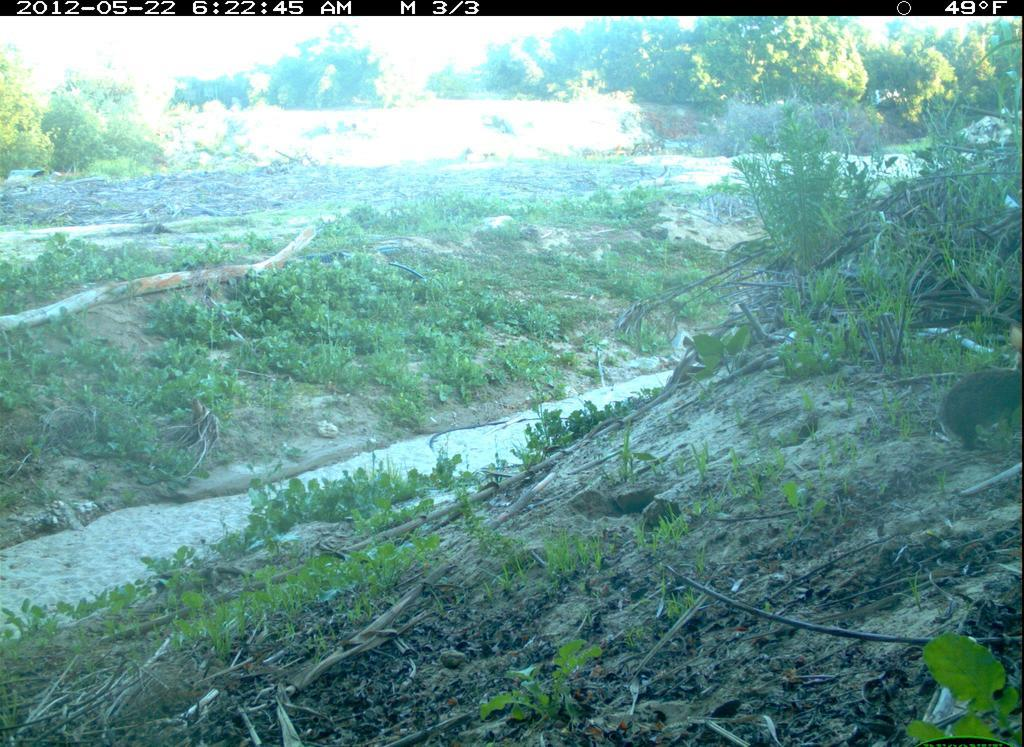rabbit: (934, 345, 1023, 465)
